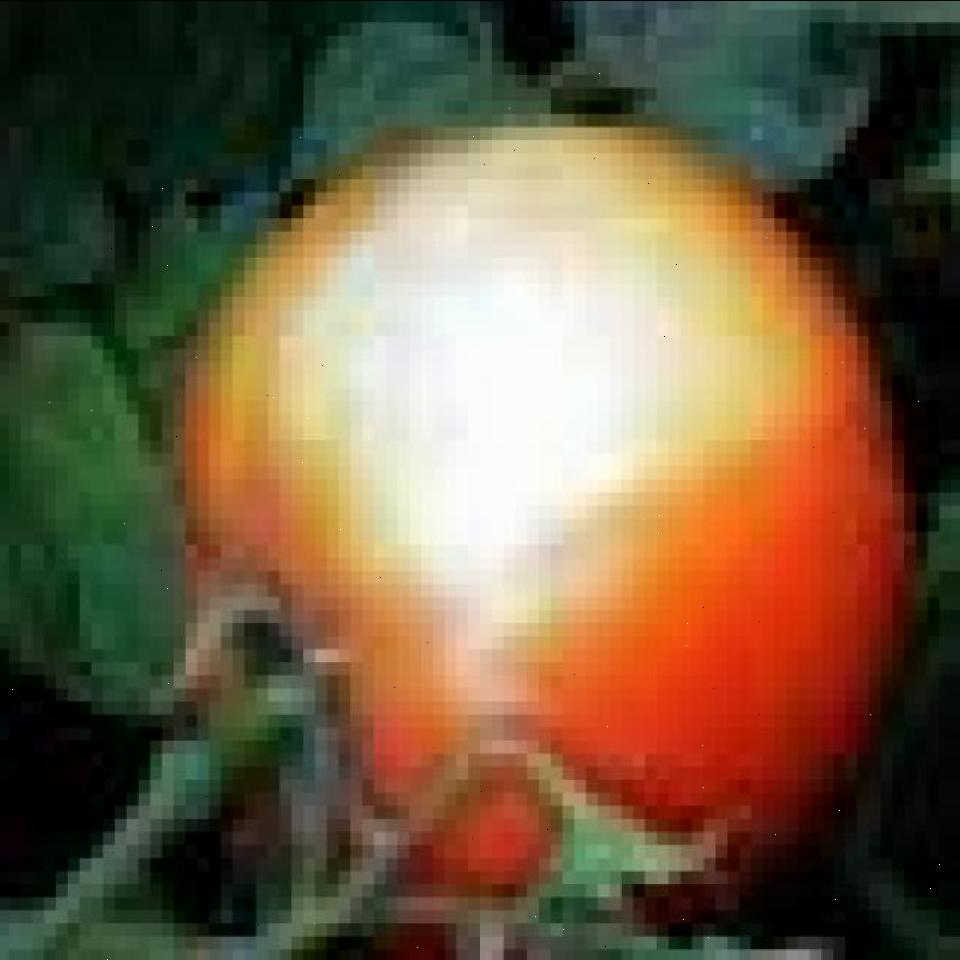Sunscald: (232, 145, 798, 720)
